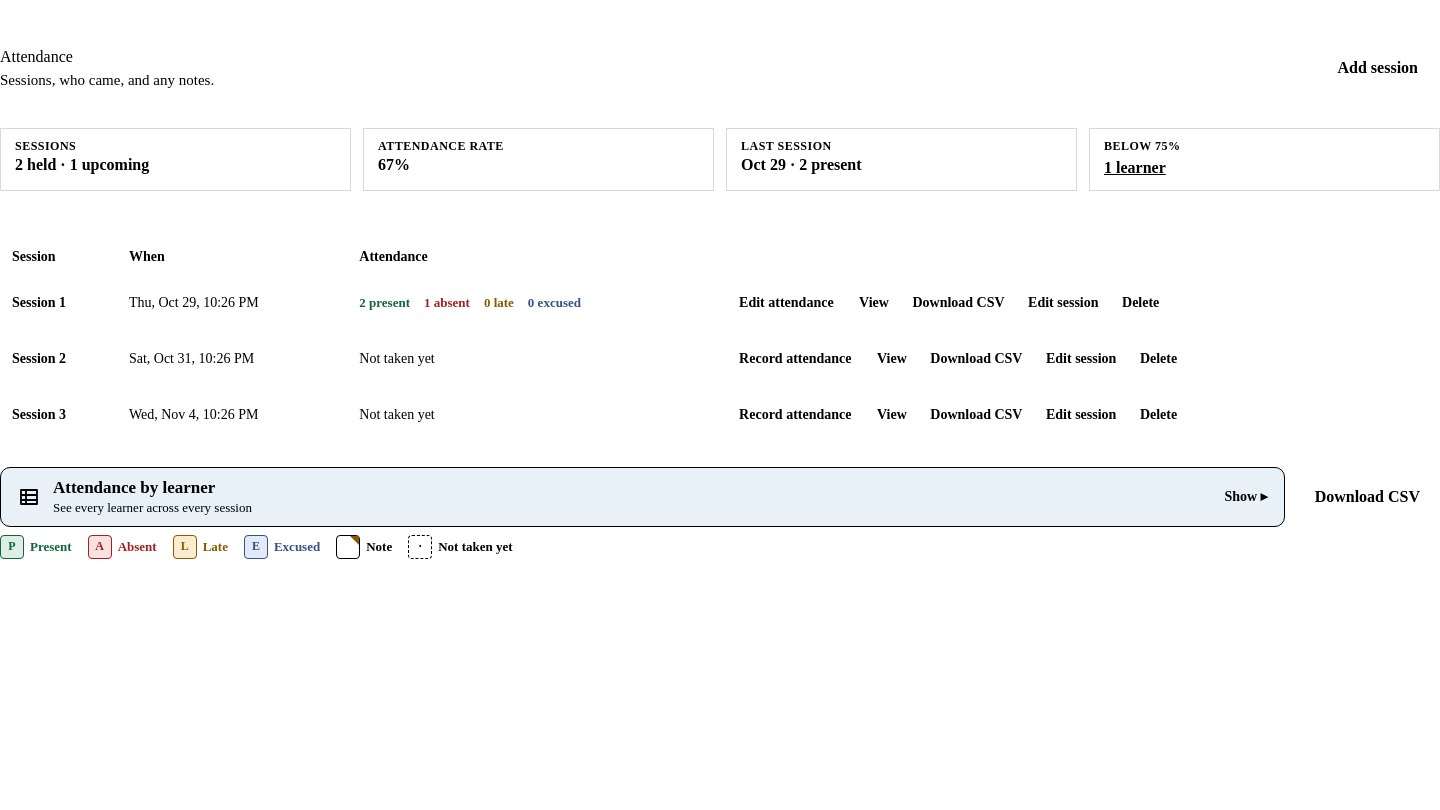
recording attendance with notes › every row has a visible note field; mark all present, add a trimmed note, save the exact payload
Click the button "Record attendance" in the row of "Session 2": [795, 359] box top-left (727, 341), bottom-right (864, 377)
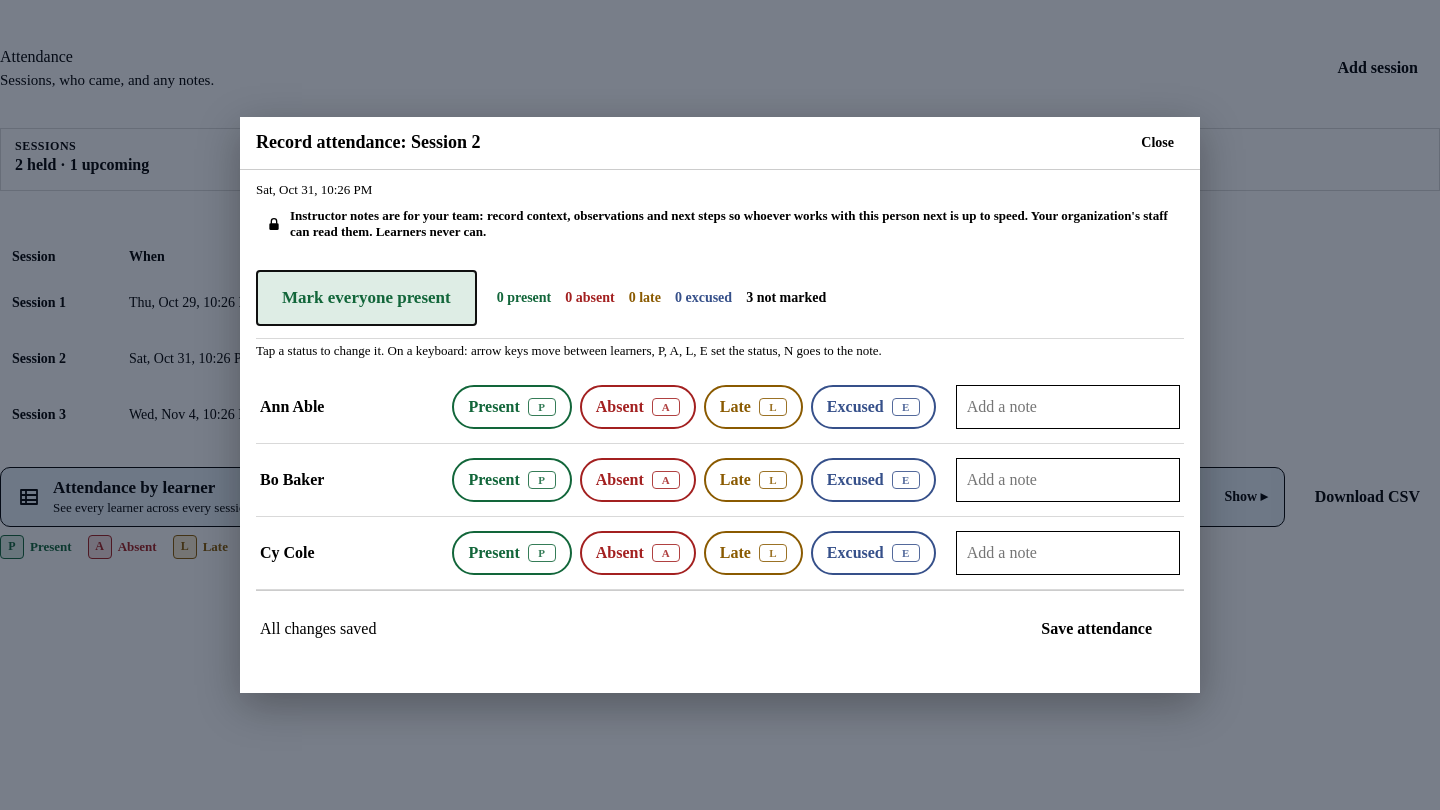
Result: the button "Save attendance" is disabled at top-left (1013, 603), bottom-right (1180, 655)
Click the button "Mark everyone present": [366, 298] box top-left (256, 270), bottom-right (477, 326)
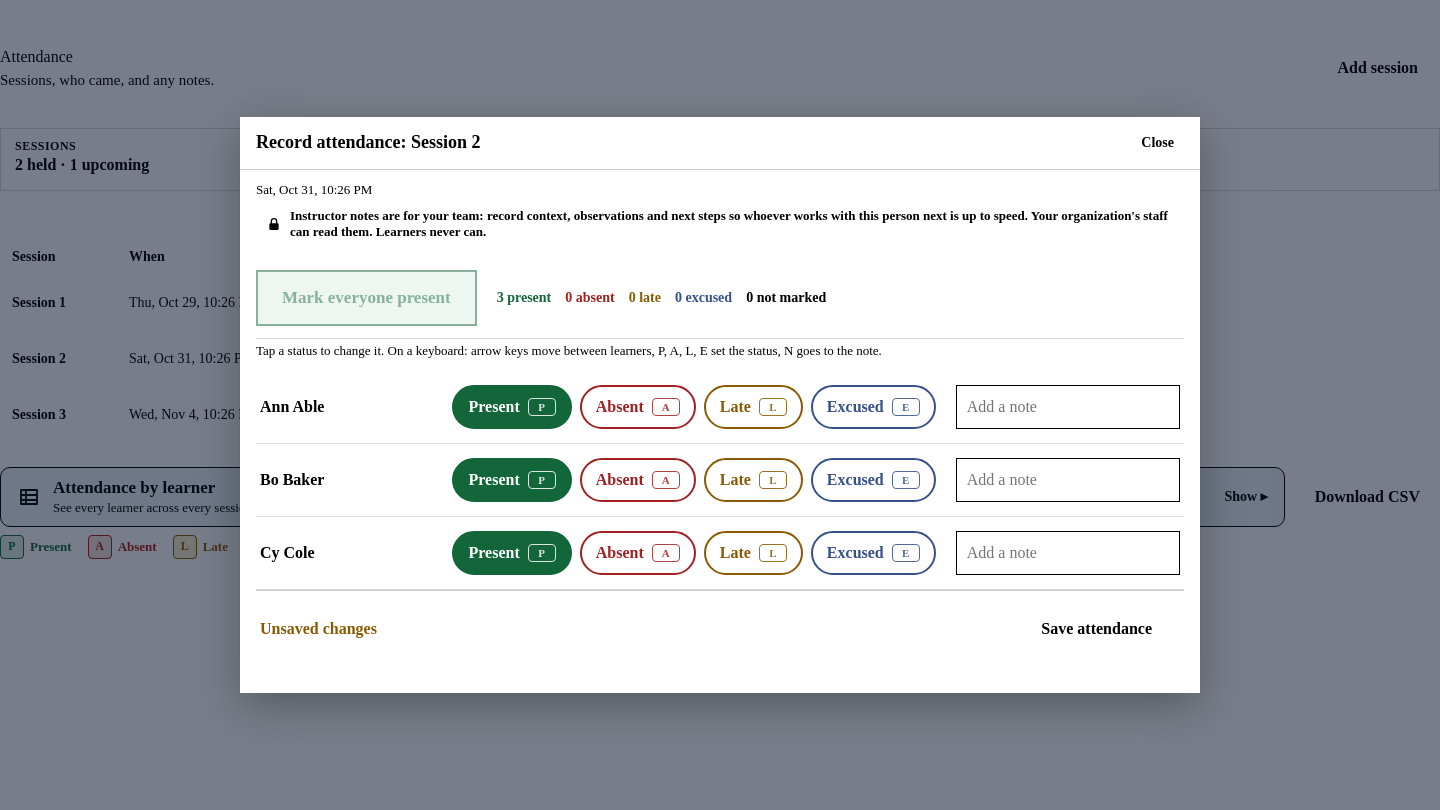
Click the radio button labelled "Late L" in the row of "Bo Baker": [753, 480] box top-left (704, 458), bottom-right (803, 502)
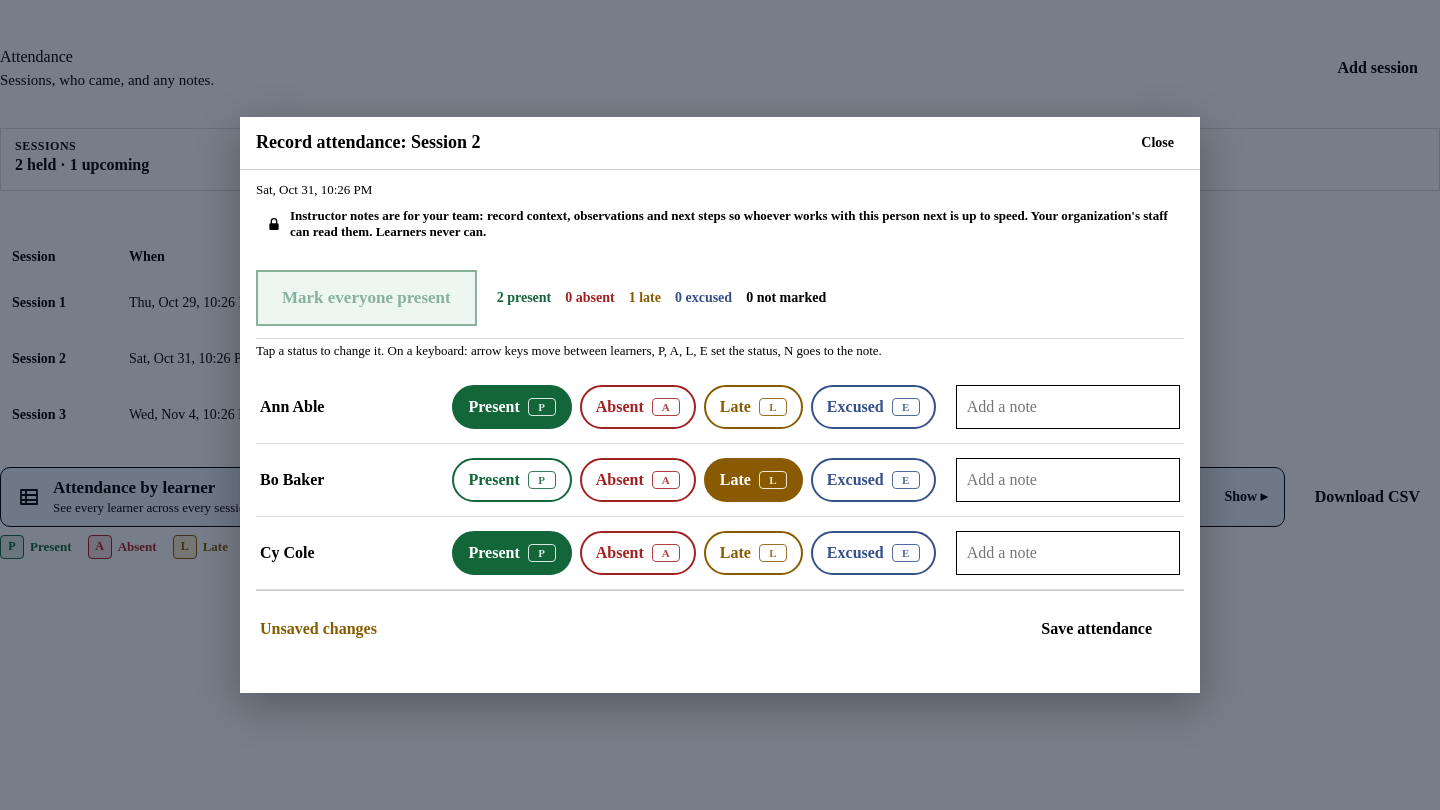
In the field named "Note for Bo Baker": [1068, 480] box top-left (956, 458), bottom-right (1180, 502), type "  stuck on the bus  "
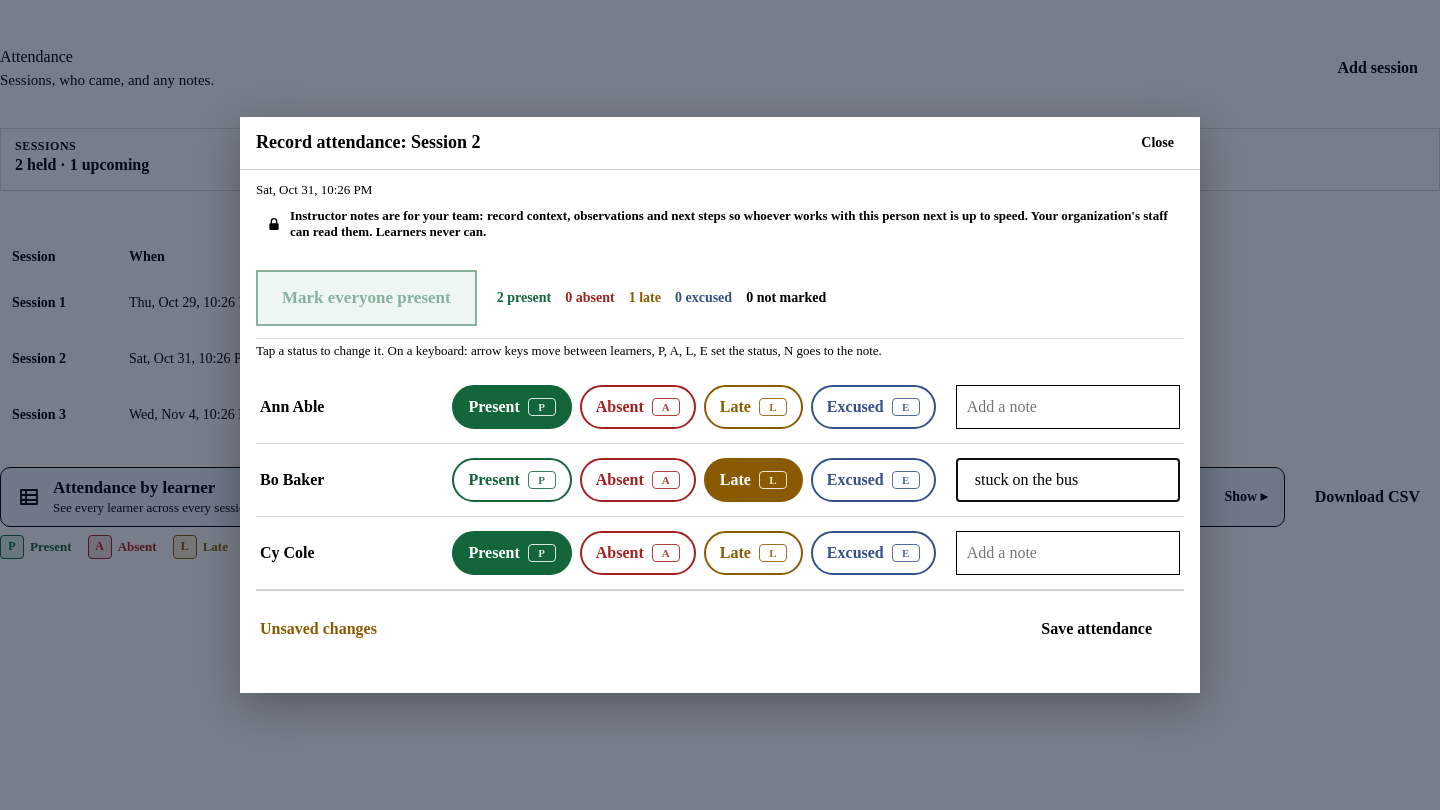
Click the button "Save attendance": [1097, 629] box top-left (1013, 603), bottom-right (1180, 655)
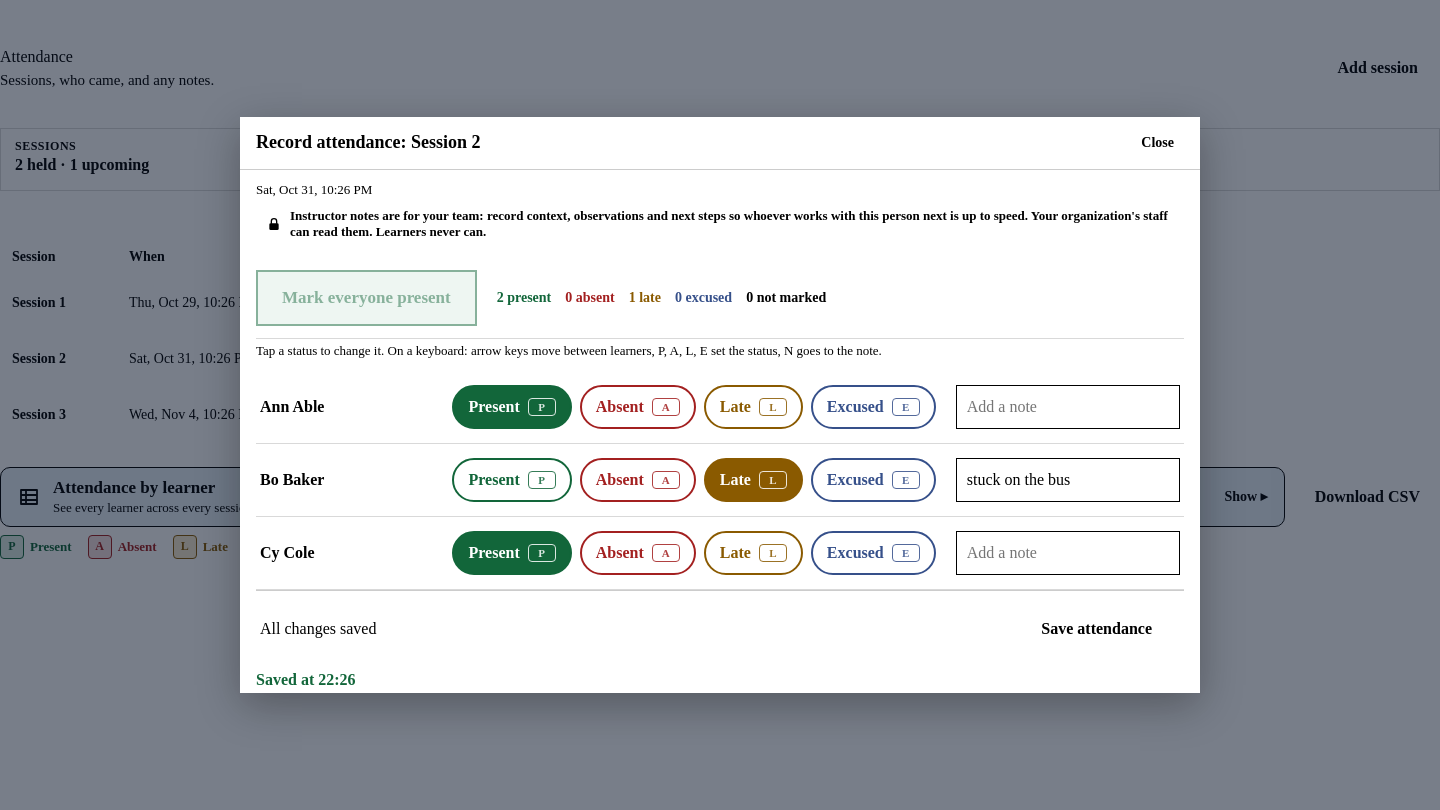
Result: the text "Saved at 22:26" is shown at top-left (256, 671), bottom-right (356, 688)
